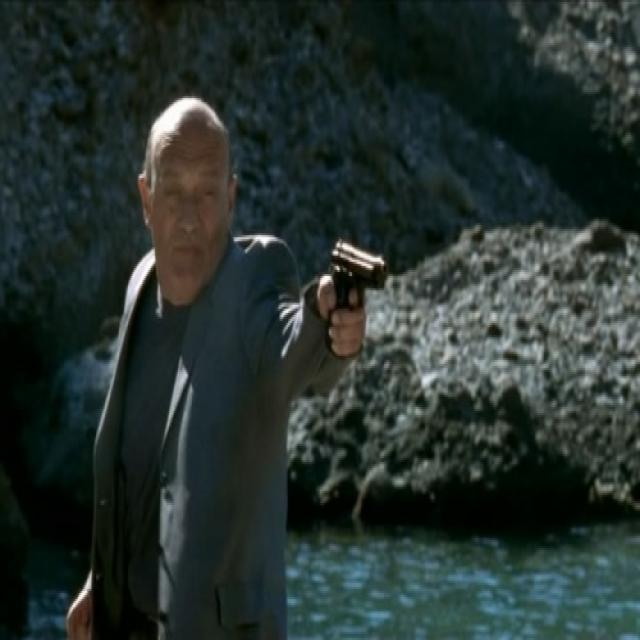weapons: (318, 213, 392, 365)
